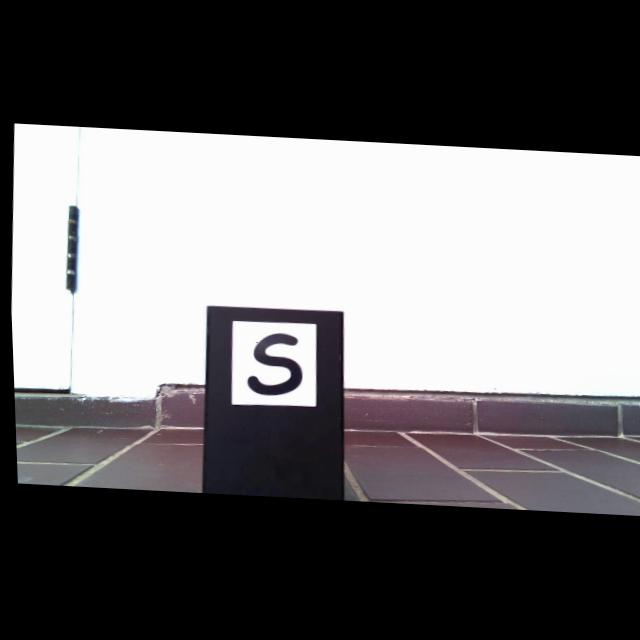S: (244, 333, 299, 396)
